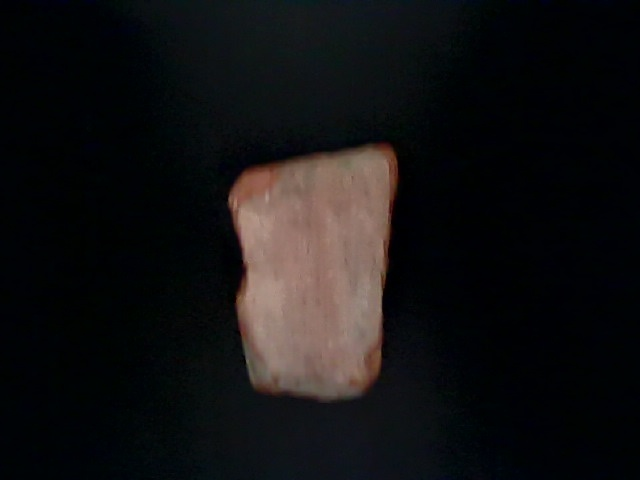KHSLJ: (1, 3, 261, 459)
